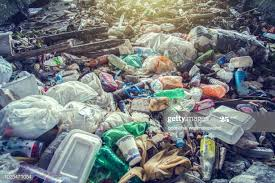garbage: (3, 3, 272, 183)
